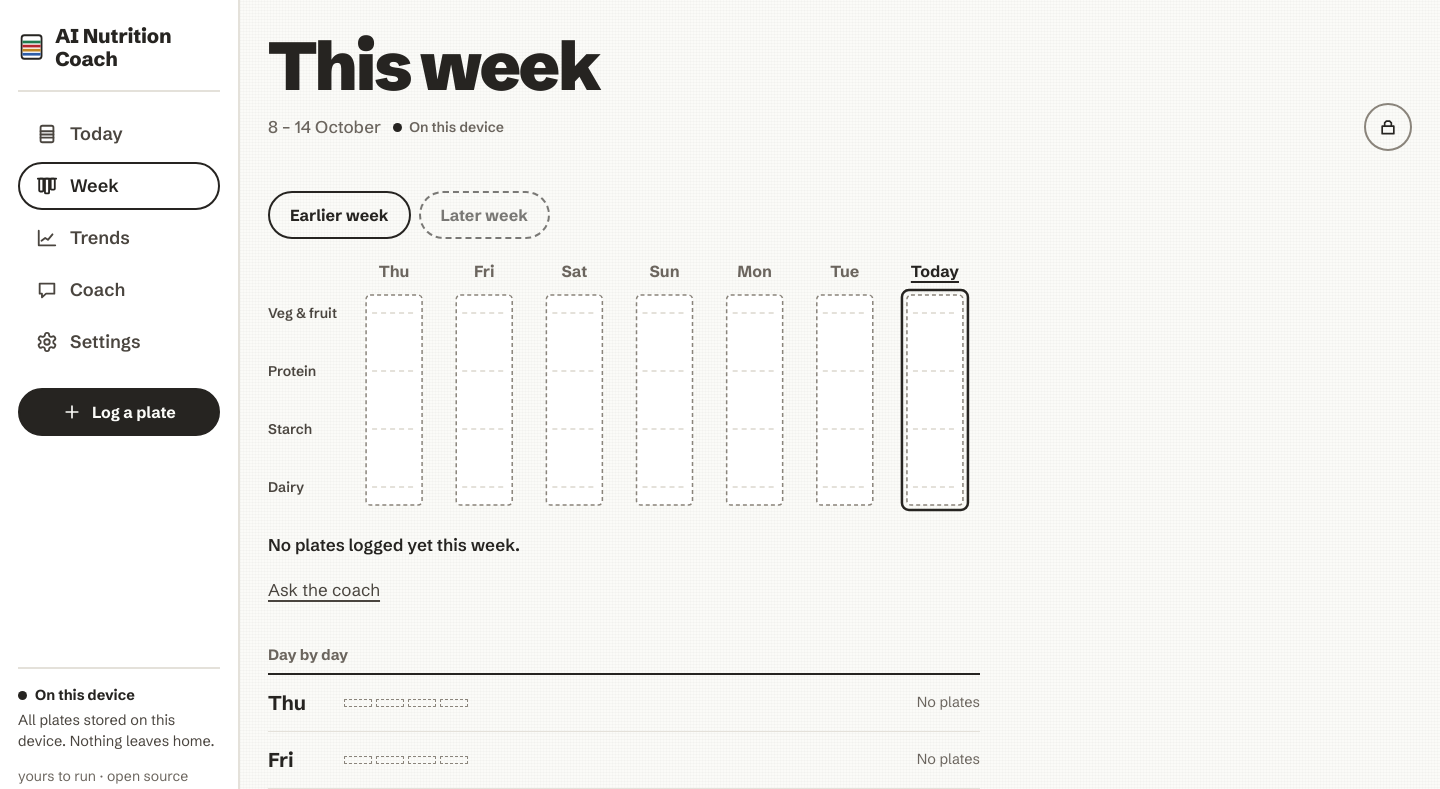
WeekScreen: an earlier week says so › names its dates in the week note, never "this week"
expect the heading "This week" is shown: met, box [268, 24, 599, 108]
Click the button "Earlier week".
click(339, 215)  # box [268, 191, 411, 239]
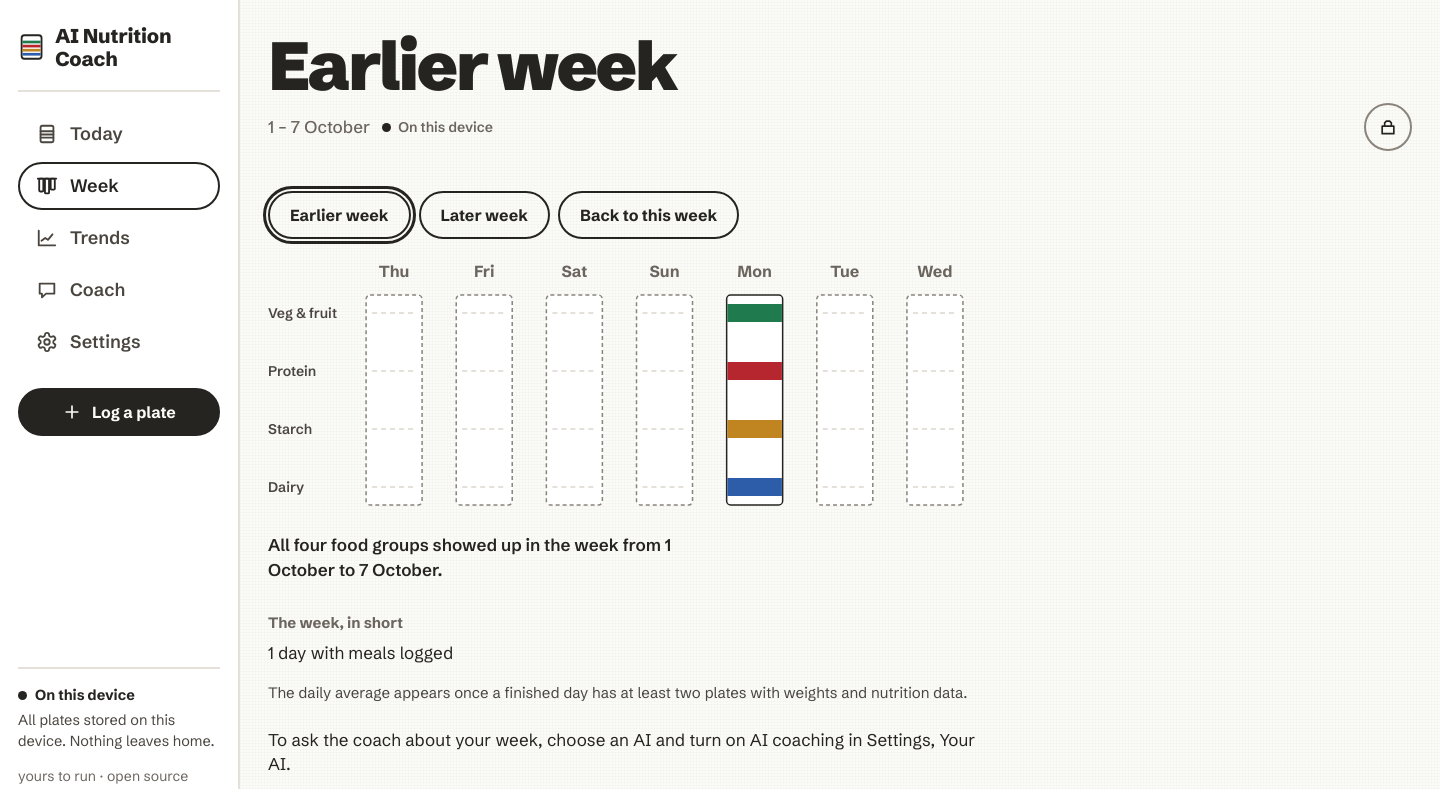
expect the heading "Earlier week" is shown: met, box [268, 24, 676, 108]
expect the text "All four food groups showed up in the week from 1 October to 7 October." is shown: met, box [268, 534, 671, 580]
